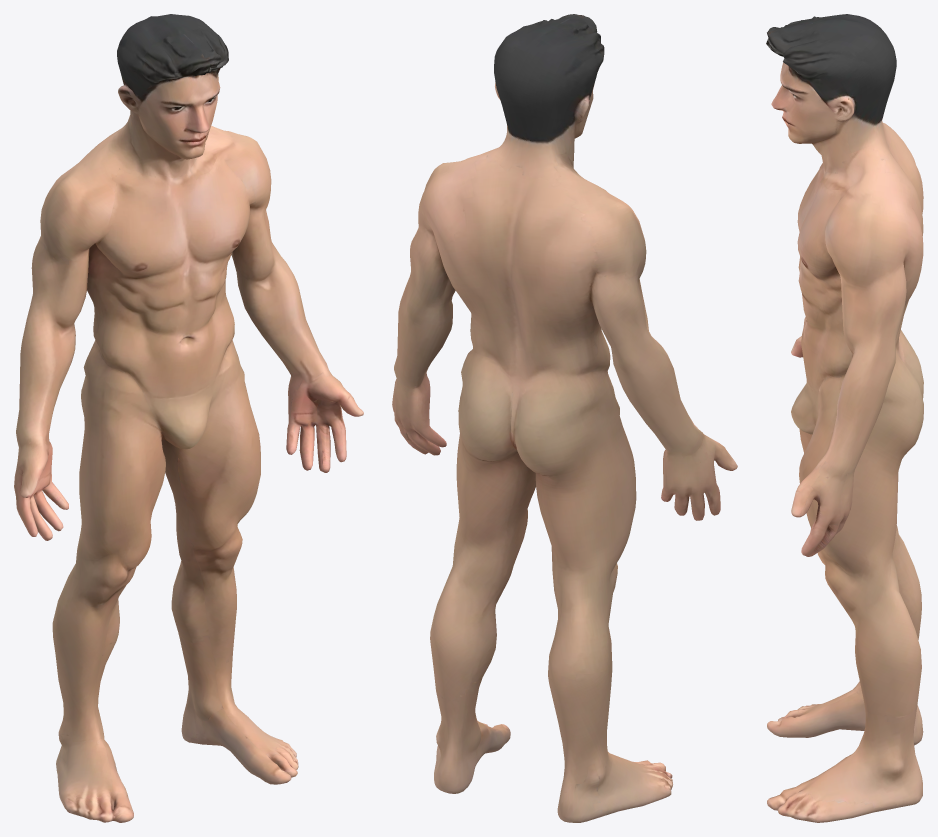
Rendered from sample-body.glb.
The picture shows the model from 3 angles, left to right: view 1: azimuth 30°, elevation 25°; view 2: azimuth 150°, elevation 25°; view 3: azimuth 270°, elevation 25°; orthographic projection.
Visible parts, largest first — view 1: model; view 2: model; view 3: model.
Part boxes in pixels (<box>): model: <box>14,14,363,822</box>; model: <box>392,14,737,822</box>; model: <box>766,14,923,822</box>.
Size of the model in its own units: 0.8472 by 1.8 by 0.3431.
Materials: 1 (1 with a texture image).
